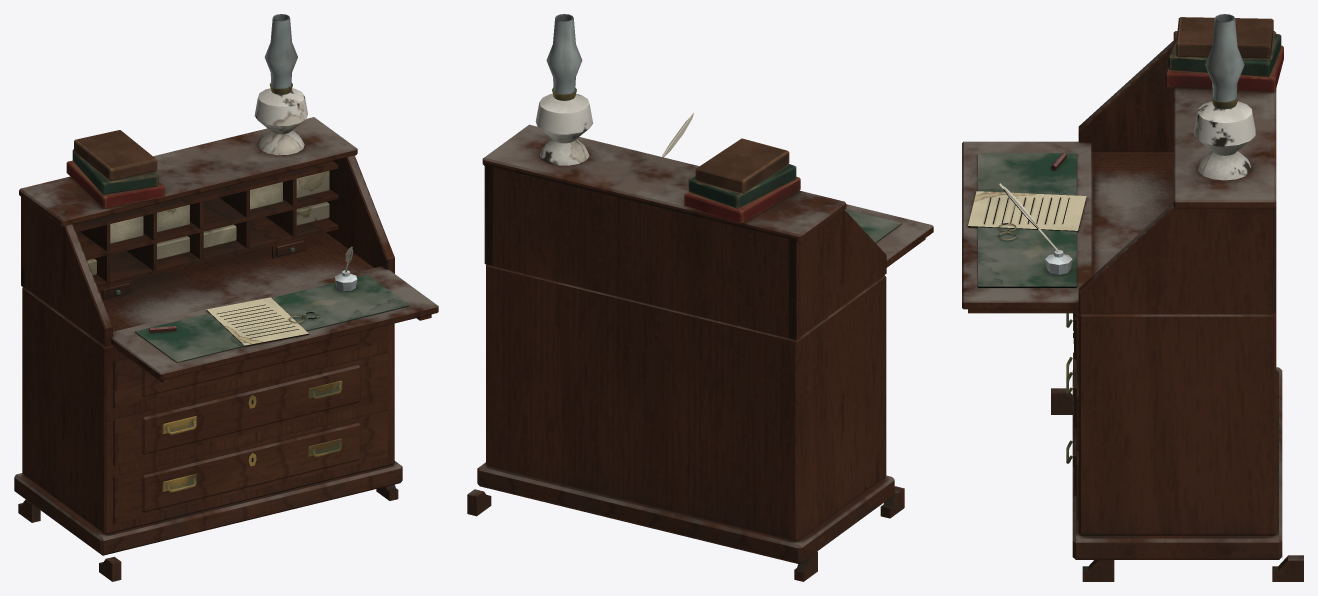
Rendered from WritingDesk.fbx.
3 views of the same model, side by side, from view 1: azimuth 30°, elevation 25°; view 2: azimuth 150°, elevation 25°; view 3: azimuth 270°, elevation 25° (orthographic). The views are drawn at different scales.
Visible parts, largest first — view 1: Frame, Glass; view 2: Frame, Glass; view 3: Frame, Glass.
Part boxes in pixels (x1,y1,x2,y2): Frame: (14,82,438,581); Glass: (264,14,297,88); Frame: (467,87,933,581); Glass: (546,14,582,94); Frame: (962,17,1303,581); Glass: (1205,14,1244,101).
Bounding box in the file's own units: 3.12 × 4.45 × 2.59.
Materials: 1 (1 with a texture image).
